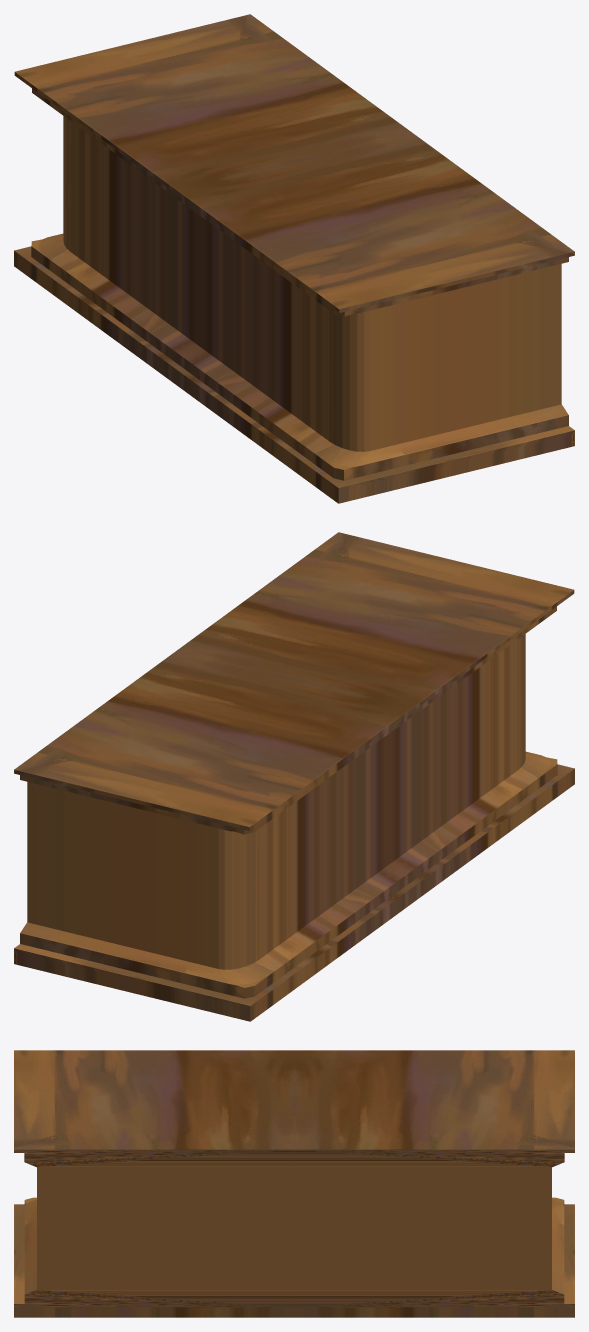
The model's file is Shelf_Base 1.fbx.
The picture shows the model from 3 angles, top to bottom: view 1: azimuth 30°, elevation 25°; view 2: azimuth 150°, elevation 25°; view 3: azimuth 270°, elevation 25°; orthographic projection. The views are drawn at different scales.
Parts seen in each view (by area): view 1: Cube.001; view 2: Cube.001; view 3: Cube.001.
Boxes of the visible parts, left/top/right/bottom form: Cube.001: left=14, top=14, right=574, bottom=503; Cube.001: left=14, top=532, right=574, bottom=1021; Cube.001: left=14, top=1050, right=574, bottom=1317.
Size of the model in its own units: 48.87 by 38.33 by 116.
2 materials, 2 textured.
